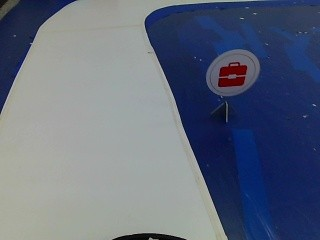company: (209, 45, 258, 99)
